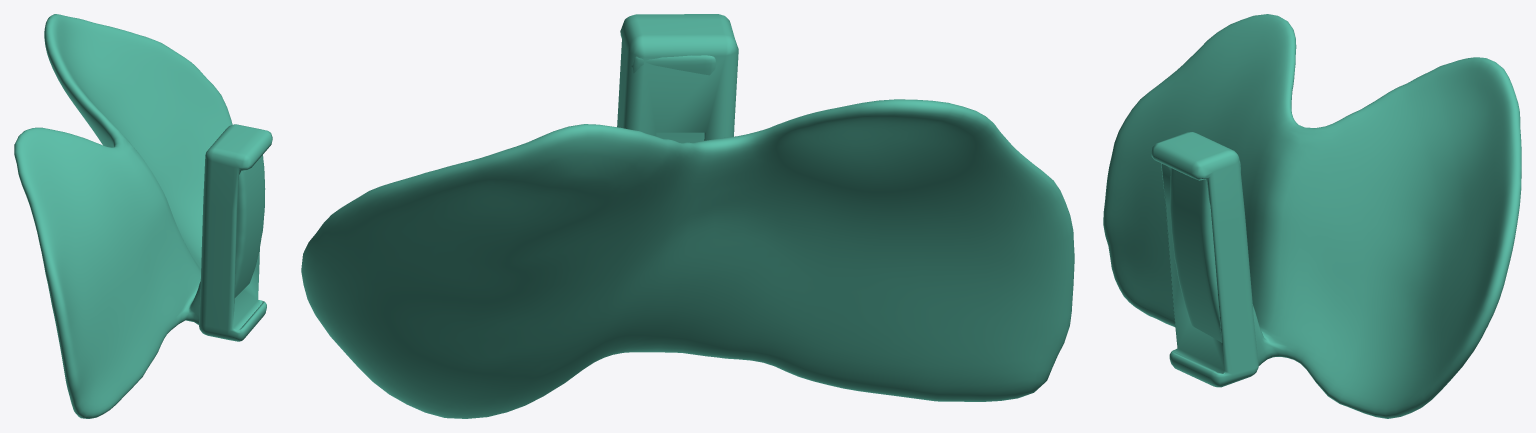
The model's file is TR3_Spacers_BaguetteMetal.001 3.glb.
The picture shows the model from 3 angles, left to right: view 1: azimuth 30°, elevation 25°; view 2: azimuth 150°, elevation 25°; view 3: azimuth 270°, elevation 25°; orthographic projection. The views are drawn at different scales.
Visible parts, largest first — view 1: TR3_Spacers_BaguetteMetal.001; view 2: TR3_Spacers_BaguetteMetal.001; view 3: TR3_Spacers_BaguetteMetal.001.
Part boxes in pixels (left/top/right/bottom): TR3_Spacers_BaguetteMetal.001: left=14, top=14, right=272, bottom=418; TR3_Spacers_BaguetteMetal.001: left=301, top=14, right=1074, bottom=418; TR3_Spacers_BaguetteMetal.001: left=1103, top=14, right=1521, bottom=418.
Bounding box in the file's own units: 1.04 × 0.7808 × 0.9785.
